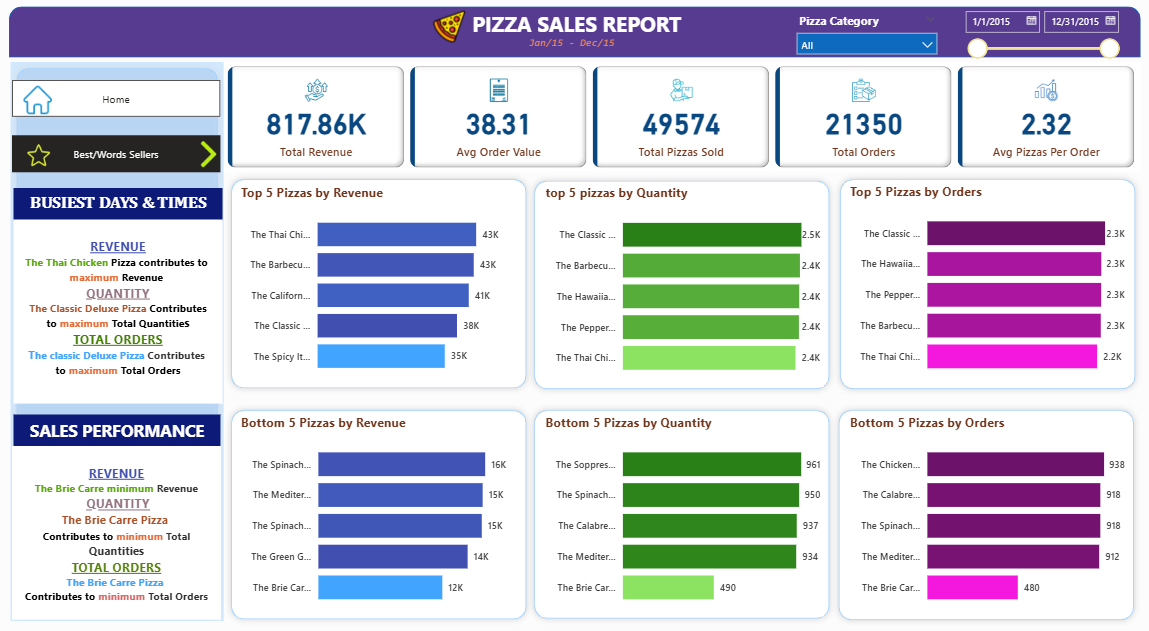

What the dashboard file says about the page in this screenshot:
{"tool":"powerbi","page":{"name":"Best/Words Sellers","canvas":[1500,820],"ordinal":1},"visuals":[{"type":"cardVisual","fields":{"Data":["pizza_sales.Total Revenue","pizza_sales.Avg Order Value","pizza_sales.Total Pizzas sold","pizza_sales.Total Orders","pizza_sales.Avg Pizzas Per Order"]},"box":[298.2,85.5,1176.4,140],"z":0},{"type":"shape","box":[23.6,12.7,1450.9,65.5],"z":1000},{"type":"textbox","box":[606.9,12.1,286.2,53.4],"z":2000},{"type":"textbox","box":[684.5,44.8,129.3,32.8],"z":3000},{"type":"image","box":[552.8,13.2,71.7,50.9],"z":4000},{"type":"shape","box":[300,226.4,394.3,284],"z":5000},{"type":"shape","box":[24.5,84.9,273.6,717],"z":6000},{"type":"textbox","box":[28.3,245.3,267.9,41.5],"z":7000},{"type":"textbox","box":[28.3,286.8,267.9,235.8],"z":8000},{"type":"textbox","box":[28.8,536.5,265.4,40.4],"z":9000},{"type":"slicer","fields":{"Values":["pizza_sales.pizza_category"]},"box":[1022.6,15.1,200,64.2],"z":10000},{"type":"slicer","fields":{"Values":["pizza_sales.order_date"]},"box":[1235.8,9.4,218.9,75.5],"z":11000},{"type":"shape","box":[300,522.6,394.3,284],"z":12000},{"type":"shape","box":[1081.1,226.4,394.3,284.9],"z":13000},{"type":"shape","box":[688.7,522.6,394.3,283],"z":14000},{"type":"shape","box":[688.7,228.3,394.3,283],"z":15000},{"type":"shape","box":[1079.2,522.6,394.3,284.9],"z":16000},{"type":"barChart","title":"Top 5 Pizzas by Revenue","fields":{"Category":["pizza_sales.pizza_name"],"Y":["pizza_sales.Total Revenue"]},"box":[315.4,240.4,361.5,257.7],"z":17000},{"type":"barChart","title":"Bottom 5 Pizzas by Revenue","fields":{"Category":["pizza_sales.pizza_name"],"Y":["pizza_sales.Total Revenue"]},"box":[315.1,534,362.3,260.4],"z":18000},{"type":"barChart","title":"top 5 pizzas by Quantity","fields":{"Category":["pizza_sales.pizza_name"],"Y":["pizza_sales.Total Pizzas Sold"]},"box":[705.7,239.6,362.3,260.4],"z":19000},{"type":"barChart","title":"Bottom 5 Pizzas by Quantity","fields":{"Category":["pizza_sales.pizza_name"],"Y":["pizza_sales.Total Pizzas Sold"]},"box":[705.7,534,362.3,260.4],"z":20000},{"type":"barChart","title":"Top 5 Pizzas by Orders","fields":{"Category":["pizza_sales.pizza_name"],"Y":["pizza_sales.Total Orders"]},"box":[1096.2,237.7,362.3,260.4],"z":21000},{"type":"barChart","title":"Bottom 5 Pizzas by Orders","fields":{"Category":["pizza_sales.pizza_name"],"Y":["pizza_sales.Total Orders"]},"box":[1096.2,534,362.3,260.4],"z":22000},{"type":"textbox","box":[26.4,577.4,267.9,222.6],"z":23000},{"type":"pageNavigator","box":[26.4,179.2,267.9,47.2],"z":24000},{"type":"pageNavigator","box":[26.4,107.5,267.9,47.2],"z":25000},{"type":"image","box":[241.5,181.1,73.6,43.4],"z":26000},{"type":"image","box":[28.3,109.4,62.3,47.2],"z":27000},{"type":"image","box":[37.7,184.9,45.3,39.6],"z":28000}]}

Visuals, with their boxes in screenshot pixels (x1, y1, x2, y2), scaled from the page's 1500x820 canvas onto the 1149x631 screenshot:
cardVisual - pizza_sales.Total Revenue x pizza_sales.Avg Order Value: bbox(228, 66, 1130, 174)
shape: bbox(18, 10, 1129, 60)
textbox: bbox(465, 9, 684, 50)
textbox: bbox(524, 34, 623, 60)
image: bbox(423, 10, 478, 49)
shape: bbox(230, 174, 532, 393)
shape: bbox(19, 65, 228, 617)
textbox: bbox(22, 189, 227, 221)
textbox: bbox(22, 221, 227, 402)
textbox: bbox(22, 413, 225, 444)
slicer - pizza_sales.pizza_category: bbox(783, 12, 937, 61)
slicer - pizza_sales.order_date: bbox(947, 7, 1114, 65)
shape: bbox(230, 402, 532, 621)
shape: bbox(828, 174, 1130, 393)
shape: bbox(528, 402, 830, 620)
shape: bbox(528, 176, 830, 393)
shape: bbox(827, 402, 1129, 621)
"Top 5 Pizzas by Revenue" barChart: bbox(242, 185, 519, 383)
"Bottom 5 Pizzas by Revenue" barChart: bbox(241, 411, 519, 611)
"top 5 pizzas by Quantity" barChart: bbox(541, 184, 818, 385)
"Bottom 5 Pizzas by Quantity" barChart: bbox(541, 411, 818, 611)
"Top 5 Pizzas by Orders" barChart: bbox(840, 183, 1117, 383)
"Bottom 5 Pizzas by Orders" barChart: bbox(840, 411, 1117, 611)
textbox: bbox(20, 444, 225, 616)
pageNavigator: bbox(20, 138, 225, 174)
pageNavigator: bbox(20, 83, 225, 119)
image: bbox(185, 139, 241, 173)
image: bbox(22, 84, 69, 121)
image: bbox(29, 142, 64, 173)
